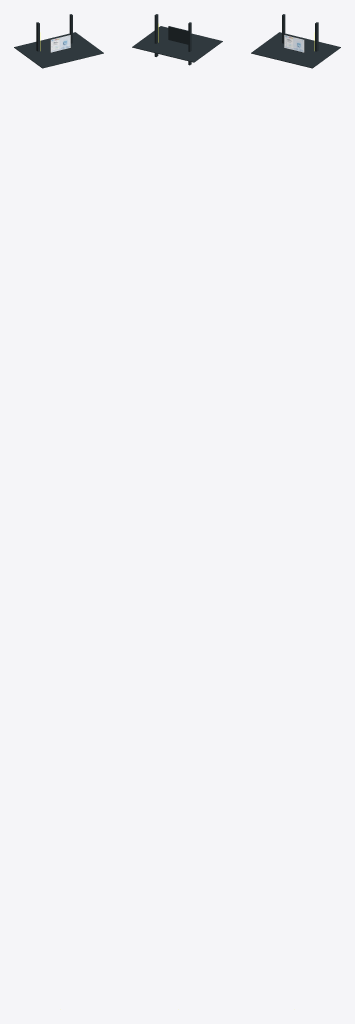
Rendered from D_product.glb.
The picture shows the model from 3 angles, left to right: view 1: azimuth 30°, elevation 25°; view 2: azimuth 150°, elevation 25°; view 3: azimuth 330°, elevation 25°; orthographic projection.
Parts seen in each view (by area): view 1: GEO-V013-TabletGround, GEO-V013-ActualTabletScreen; view 2: GEO-V013-TabletGround, GEO-V013-TabletBezel, GEO-V013-TabletStagePiers; view 3: GEO-V013-TabletGround, GEO-V013-ActualTabletScreen.
Part boxes in pixels (box(x1,y1,x2,y2)): GEO-V013-TabletGround: box(14, 32, 103, 68); GEO-V013-ActualTabletScreen: box(50, 35, 70, 52); GEO-V013-TabletGround: box(132, 26, 222, 62); GEO-V013-TabletBezel: box(168, 26, 188, 44); GEO-V013-TabletStagePiers: box(154, 14, 191, 65); GEO-V013-TabletGround: box(251, 32, 340, 68); GEO-V013-ActualTabletScreen: box(284, 35, 304, 52).
Bounding box in the file's own units: 100 × 1532 × 80.
4 materials, 1 textured.
